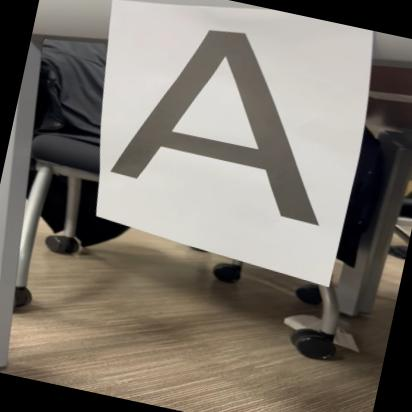seat: (91, 5, 364, 231)
